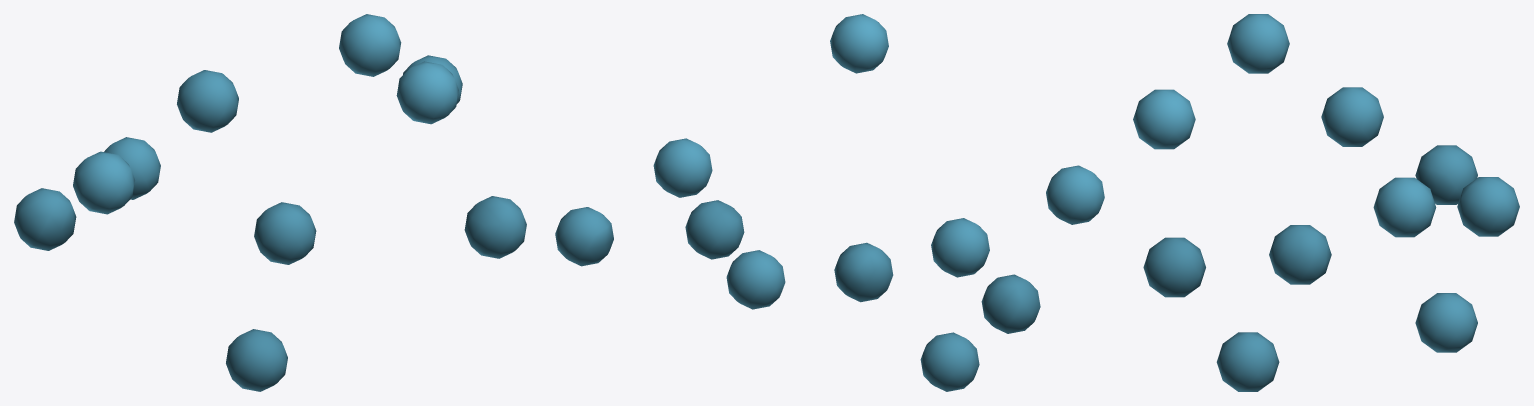
The model's file is glass-transformation-particles.obj.
3 views of the same model, side by side, from view 1: azimuth 30°, elevation 25°; view 2: azimuth 150°, elevation 25°; view 3: azimuth 270°, elevation 25° (orthographic). The views are drawn at different scales.
Parts seen in each view (by area): view 1: glass-transformation-particles; view 2: glass-transformation-particles; view 3: glass-transformation-particles.
Boxes of the visible parts, box(x1,y1,x2,y2) form: glass-transformation-particles: box(14, 14, 526, 391); glass-transformation-particles: box(555, 14, 1104, 391); glass-transformation-particles: box(1133, 14, 1519, 391).
Size of the model in its own units: 0.5171 by 0.3 by 0.37.
